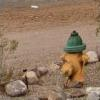a fire hydrant: (60, 27, 89, 86)
